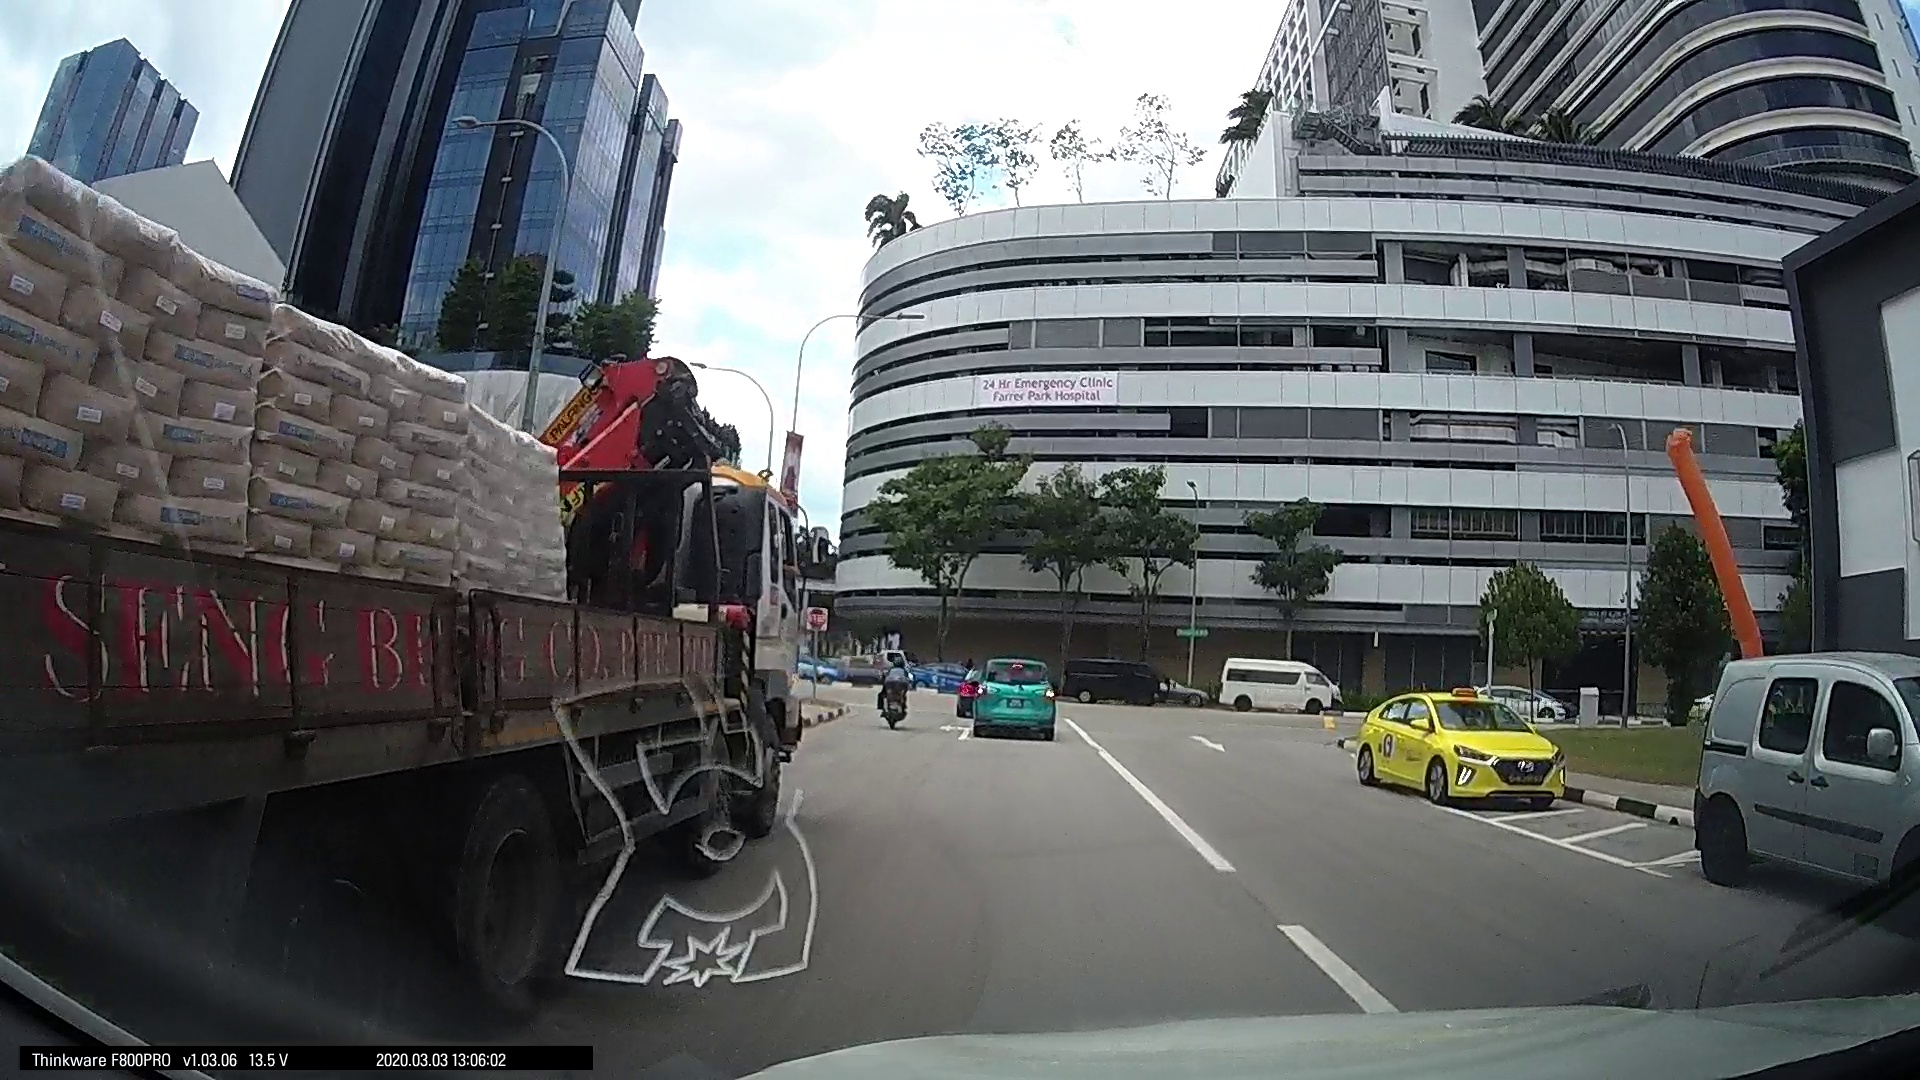Heavy Vehicle: (24, 273, 807, 984)
Light Vehicle: (1680, 650, 1917, 911), (1348, 683, 1572, 818), (1207, 651, 1338, 717), (967, 653, 1058, 738), (1058, 649, 1182, 704)
